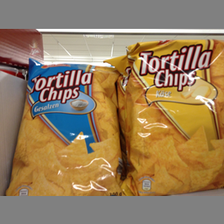chips: (119, 38, 224, 193), (10, 59, 124, 194)
